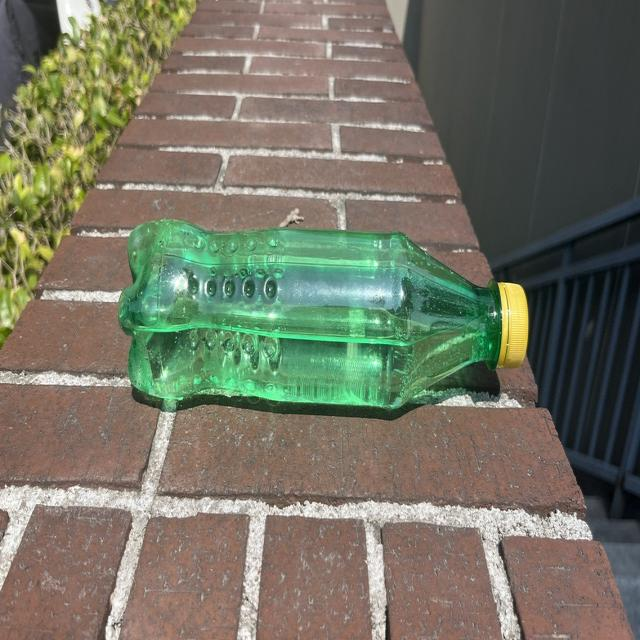medium: (119, 220, 528, 409)
